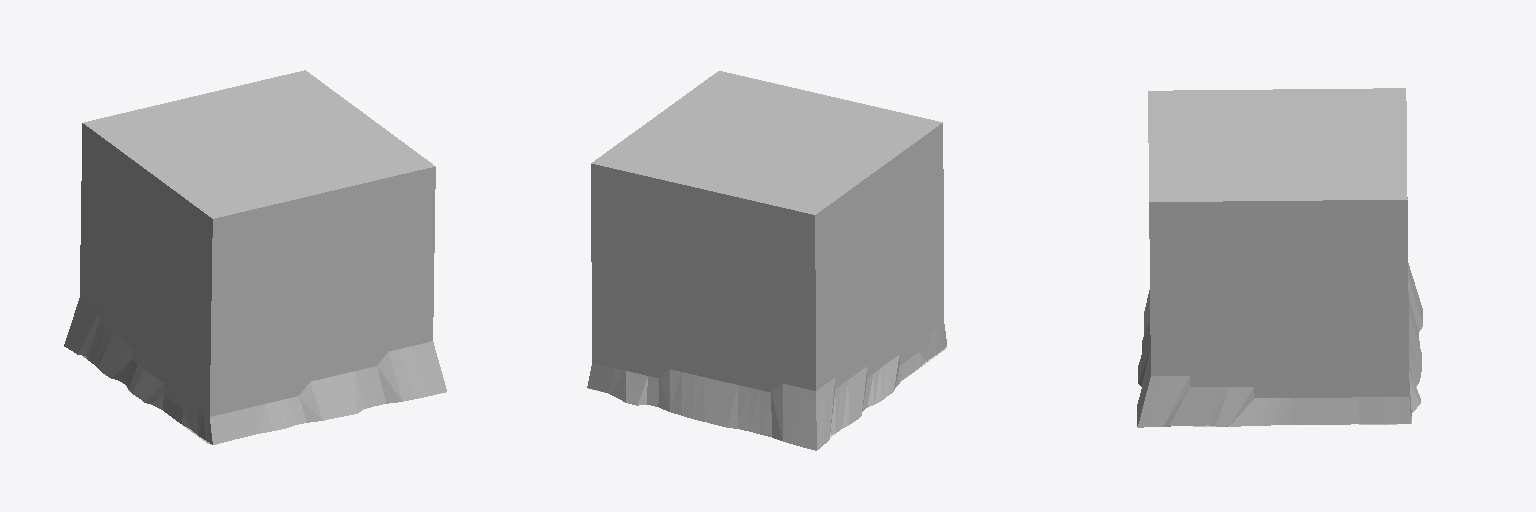
File: mod0111.obj
The picture shows the model from 3 angles: view 1: azimuth 30°, elevation 25°; view 2: azimuth 150°, elevation 25°; view 3: azimuth 270°, elevation 25°; orthographic projection.
Parts seen in each view (by area): view 1: Box001; view 2: Box001; view 3: Box001.
Boxes of the visible parts, <box> form: Box001: <box>64,70,446,444</box>; Box001: <box>587,71,946,450</box>; Box001: <box>1137,88,1422,427</box>.
Bounding box in the file's own units: 0.5799 × 0.5237 × 0.5979.